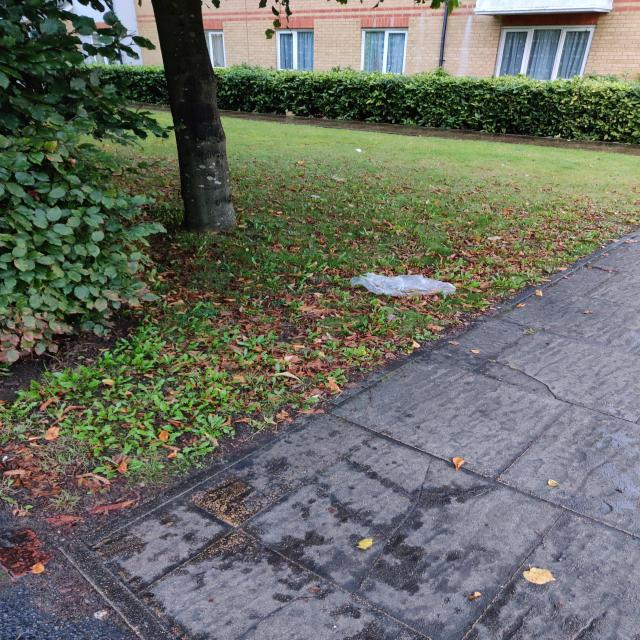litter: (349, 265, 459, 295)
